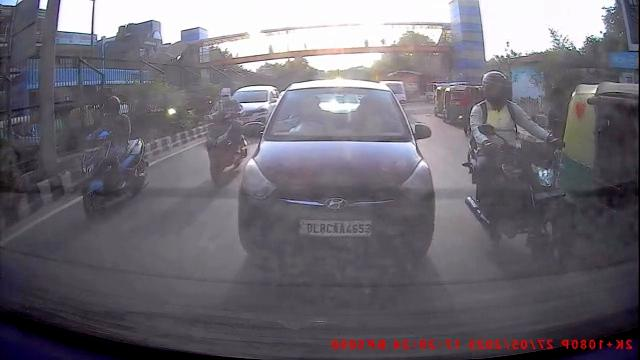motorcycle_with_helmet: (462, 68, 571, 277), (203, 85, 254, 187)
